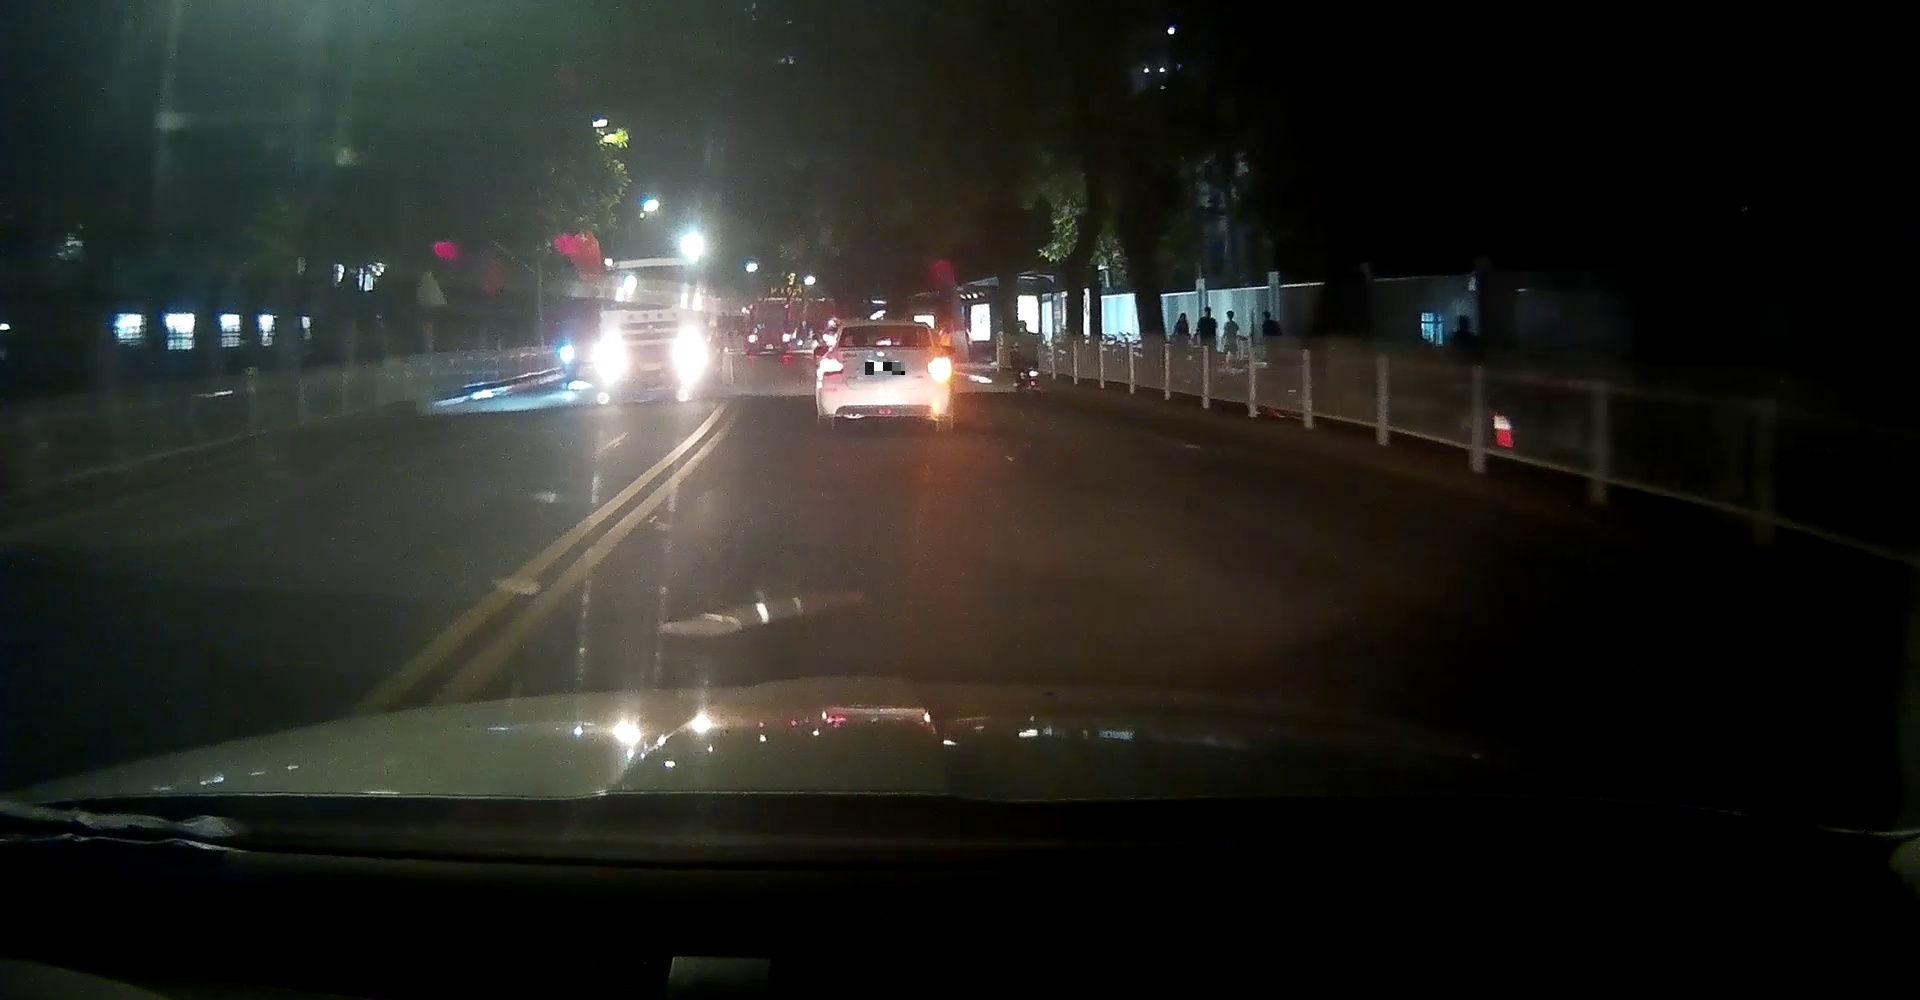L_light: (818, 358, 844, 376)
R_light: (930, 358, 951, 376)
T_light: (875, 341, 899, 346)
night-right: (815, 319, 954, 429)
plate_1: (865, 362, 905, 376)
